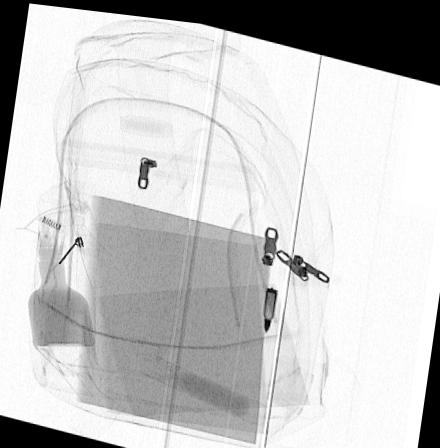Bullet: (261, 279, 277, 326)
